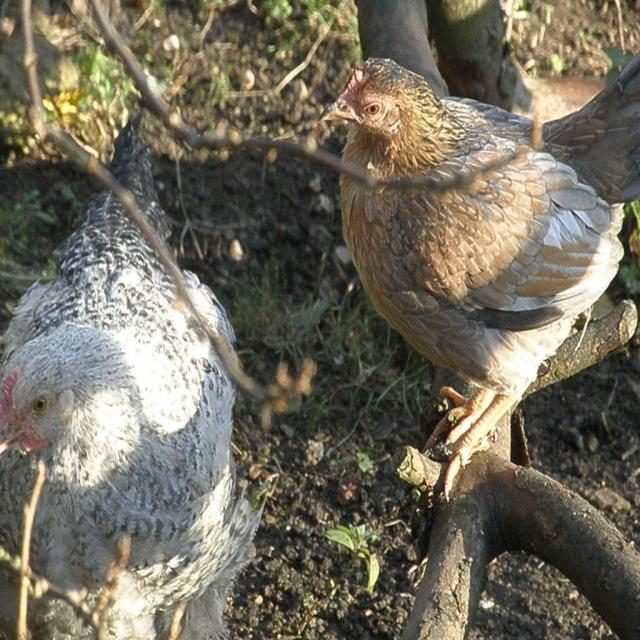Chicken: (320, 54, 640, 500), (0, 112, 267, 640)
